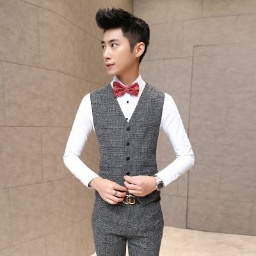face: (95, 5, 153, 82)
